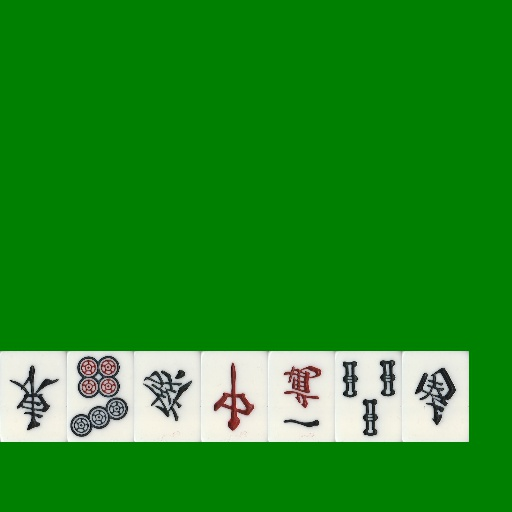1m: (268, 351, 335, 442)
3s: (335, 351, 402, 442)
7p: (67, 351, 134, 442)
east: (0, 351, 67, 442)
hatsu: (134, 351, 201, 442)
south: (402, 351, 469, 442)
tyun: (201, 351, 268, 442)
